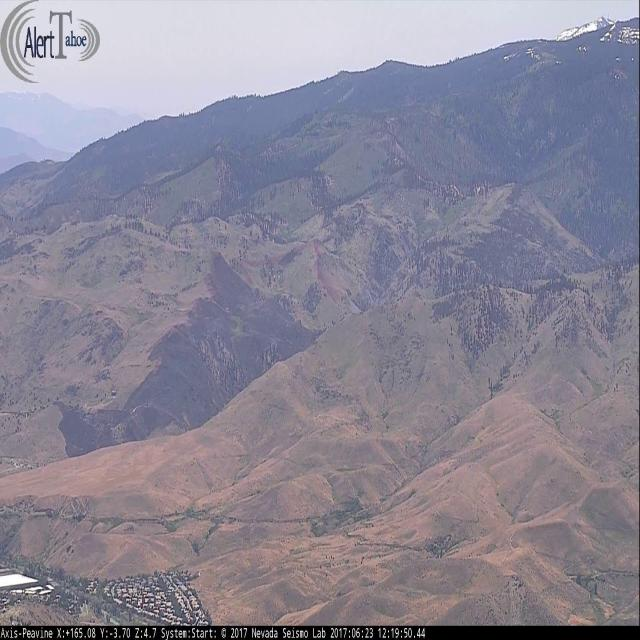smoke: (212, 276, 289, 362)
